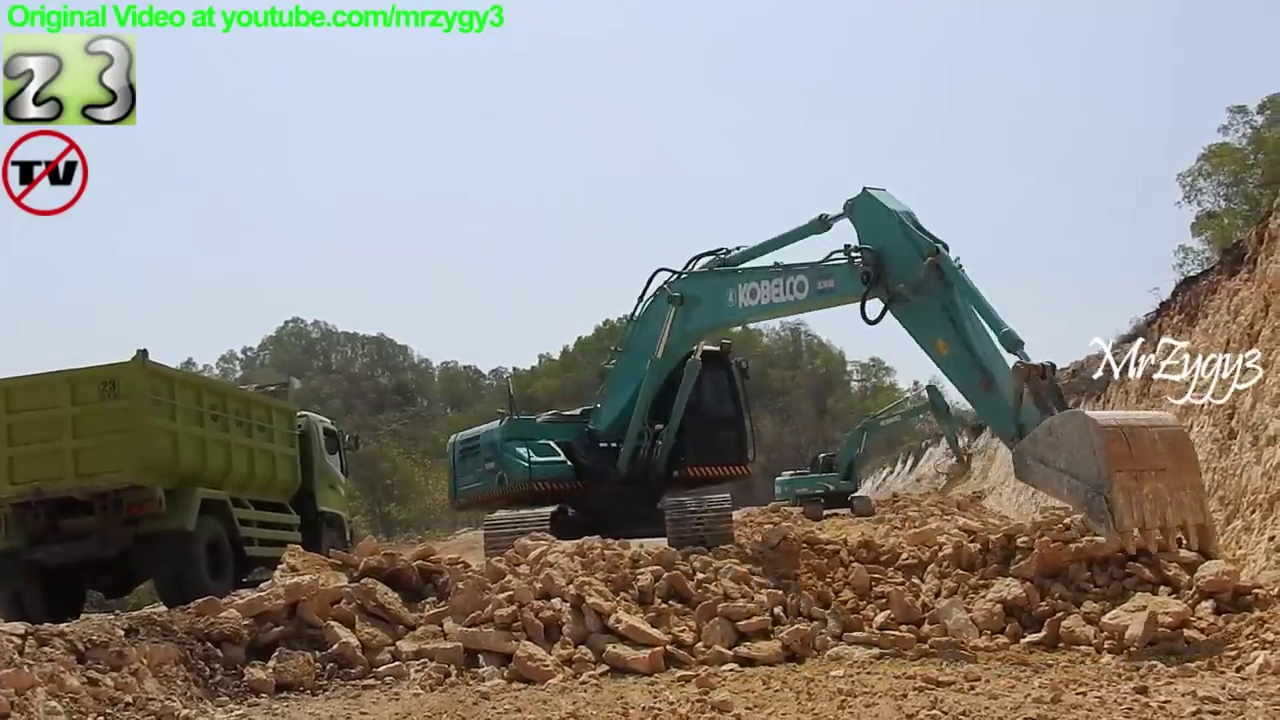excavator breaker: (769, 381, 974, 523)
truck: (441, 182, 1219, 568), (1, 343, 364, 633)
